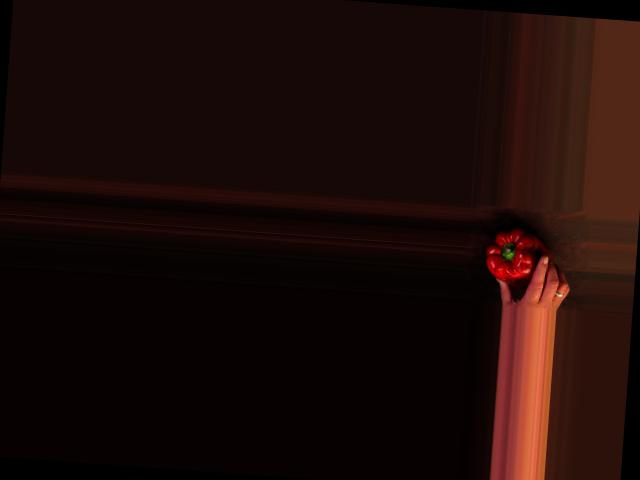bell_pepper: (482, 224, 548, 288)
